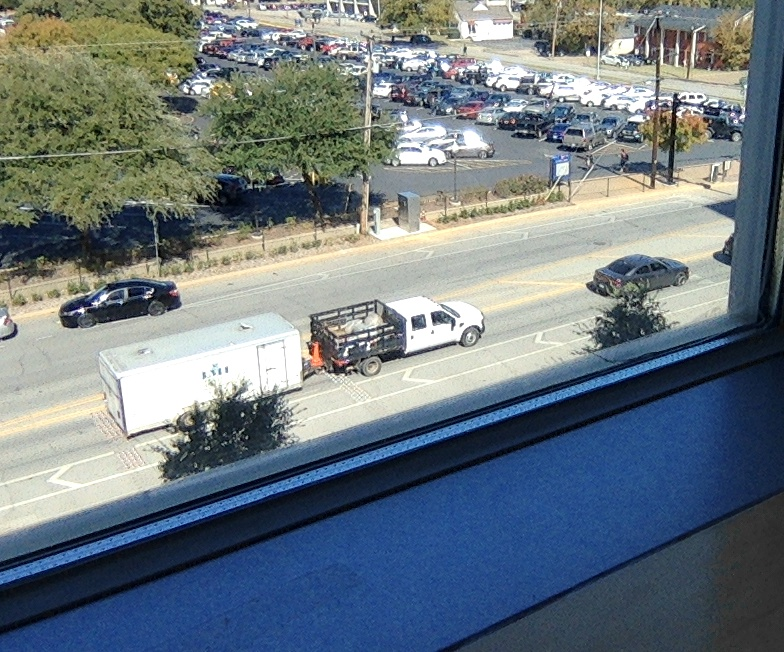car: (300, 300, 484, 382)
